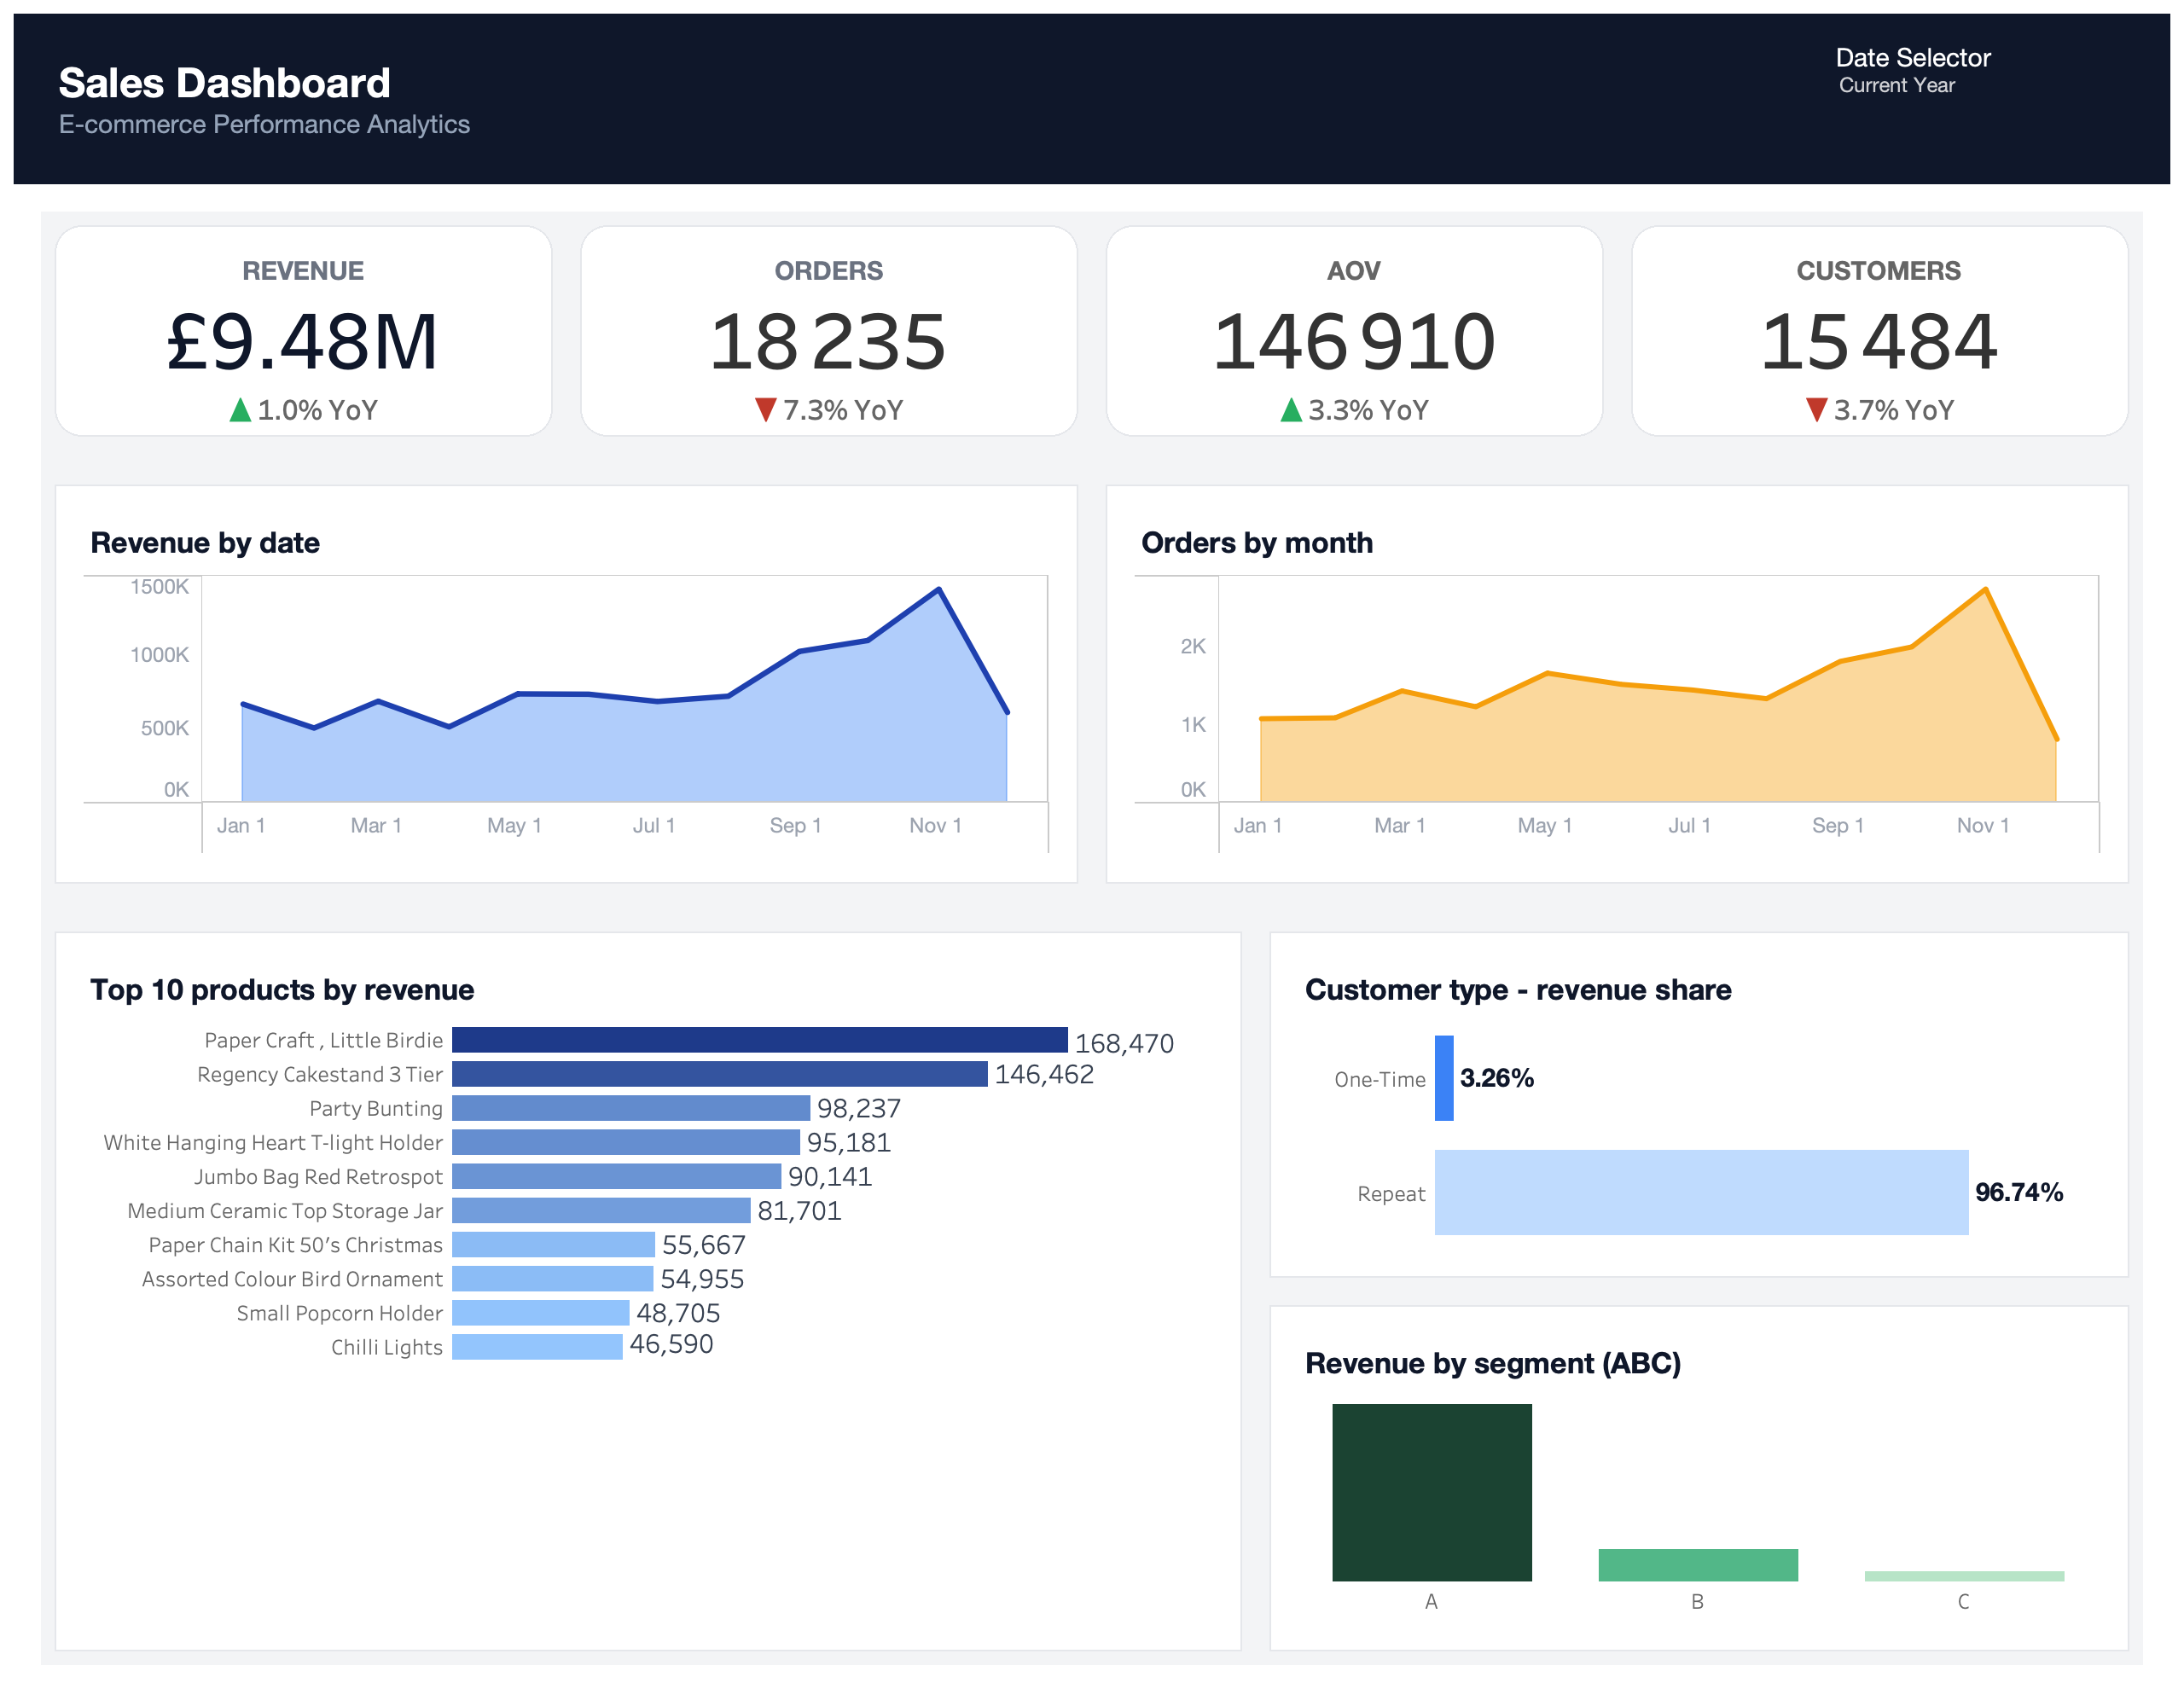

This screenshot's page, from the dashboard's own definition file:
{"tool":"tableau","page":{"name":"Dashboard","canvas":[1280,1000],"ordinal":0},"visuals":[{"type":"text","box":[32,24,1044,68.4]},{"type":"parameter","param":"[Parameters].[Parameter 1]","box":[1076,24,172,68.4]},{"type":"worksheet","title":"KPI Revenue","mark":"Text","box":[24,124,308,140]},{"type":"worksheet","title":"KPI Orders","mark":"Text","box":[332,124,308,140]},{"type":"worksheet","title":"KPI AOV","mark":"Text","box":[640,124,308,140]},{"type":"worksheet","title":"KPI Customers","mark":"Text","box":[948,124,308,140]},{"type":"blank","box":[24,264.4,1232,12]},{"type":"worksheet","title":"Revenue by date","mark":"Area","rows":["Revenue","Revenue"],"cols":["Calculation_0996495595765763"],"box":[24,276,616,250]},{"type":"worksheet","title":"Orders by month","mark":"Line","rows":["Orders","Orders"],"cols":["Calculation_0996495595765763"],"box":[640,276,616,250]},{"type":"blank","box":[24,526.4,1232,12]},{"type":"worksheet","title":"Top 10 products","mark":"Automatic","rows":["Description"],"cols":["Revenue"],"box":[24,538.4,712,437.6]},{"type":"worksheet","title":"One Time vs Repeat Customers","mark":"Automatic","rows":["Customer_Type"],"cols":["Revenue_Share_Pct"],"box":[736,538.4,520,218.8]},{"type":"worksheet","title":"ABC by products","mark":"Automatic","rows":["Revenue"],"cols":["Segment"],"box":[736,757.2,520,218.8]}]}

Visuals, with their boxes in screenshot pixels (x1, y1, x2, y2), scaled from the page's 1280x1000 canvas onto the 2184x1706 screenshot:
text: (55,41,1836,158)
parameter: (1836,41,2129,158)
"KPI Revenue" worksheet (Text marks): (41,212,566,450)
"KPI Orders" worksheet (Text marks): (566,212,1092,450)
"KPI AOV" worksheet (Text marks): (1092,212,1618,450)
"KPI Customers" worksheet (Text marks): (1618,212,2143,450)
blank: (41,451,2143,472)
"Revenue by date" worksheet (Area marks): (41,471,1092,897)
"Orders by month" worksheet (Line marks): (1092,471,2143,897)
blank: (41,898,2143,919)
"Top 10 products" worksheet: (41,919,1256,1665)
"One Time vs Repeat Customers" worksheet: (1256,919,2143,1291)
"ABC by products" worksheet: (1256,1291,2143,1665)
